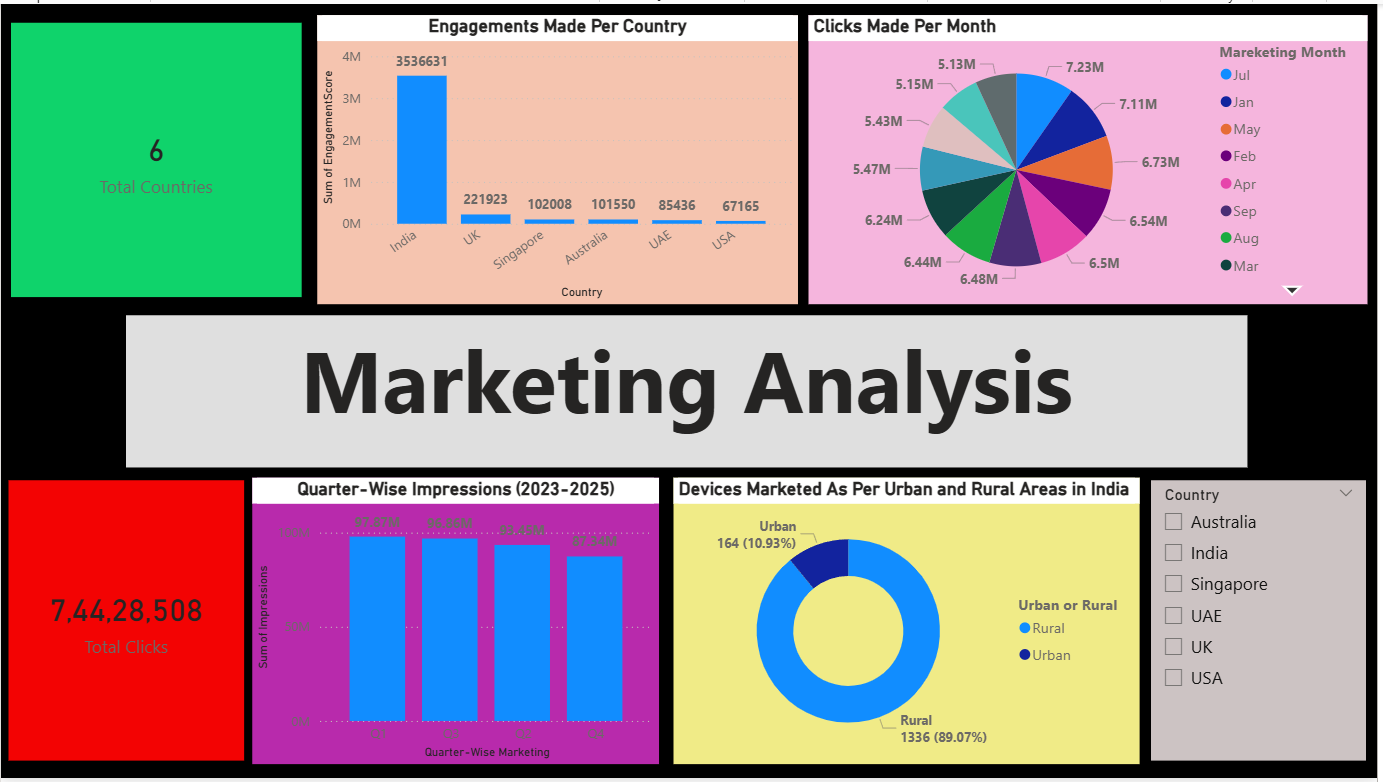

The dashboard page shown, as its layout file describes it:
{"tool":"powerbi","page":{"name":"Page 1","canvas":[1280,720],"ordinal":0},"visuals":[{"type":"card","fields":{"Values":["Sheet1.Total Clicks"]},"box":[6.9,443.2,219.6,260.7],"z":0},{"type":"card","fields":{"Values":["Sheet1.Total Countries"]},"box":[9.6,17.8,270.3,255.2],"z":1000},{"type":"pieChart","title":"Clicks Made Per Month","fields":{"Category":["Sheet1.Mareketing Month"],"Y":["Sum(Sheet1.Clicks)"]},"box":[750.6,11,520.1,269],"z":2000},{"type":"clusteredColumnChart","title":"Quarter-Wise Impressions (2023-2025)","fields":{"Category":["Sheet1.Quarter-Wise Marketing"],"Y":["Sum(Sheet1.Impressions)"]},"box":[233.3,440.5,378.7,266.2],"z":3000},{"type":"clusteredColumnChart","title":"Engagements Made Per Country","fields":{"Y":["Sum(Sheet1.EngagementScore)"],"Category":["Sheet1.Country"]},"box":[293.7,11,447.3,269],"z":4000},{"type":"donutChart","title":"Devices Marketed As Per Urban and Rural Areas in India","fields":{"Category":["Sheet1.Urban or Rural"],"Y":["CountNonNull(Sheet1.Device)"]},"box":[625.7,440.5,433.6,266.2],"z":5000},{"type":"slicer","fields":{"Values":["Sheet1.Country"]},"box":[1070.3,443.2,200.3,260.7],"z":6000},{"type":"textbox","box":[116.6,289.5,1042.9,141.3],"z":7000}]}

Visuals, with their boxes in screenshot pixels (x1, y1, x2, y2), scaled from the page's 1280x720 canvas onto the 1383x782 screenshot:
card - Sheet1.Total Clicks: region(7, 481, 245, 765)
card - Sheet1.Total Countries: region(10, 19, 302, 297)
"Clicks Made Per Month" pieChart: region(811, 12, 1373, 304)
"Quarter-Wise Impressions (2023-2025)" clusteredColumnChart: region(252, 478, 661, 768)
"Engagements Made Per Country" clusteredColumnChart: region(317, 12, 801, 304)
"Devices Marketed As Per Urban and Rural Areas in India" donutChart: region(676, 478, 1145, 768)
slicer - Sheet1.Country: region(1156, 481, 1373, 765)
textbox: region(126, 314, 1253, 468)
